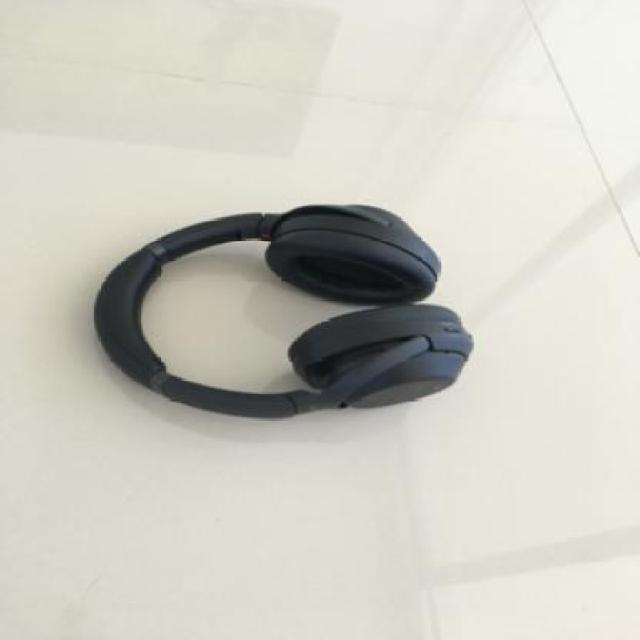earphone: (77, 133, 513, 435)
